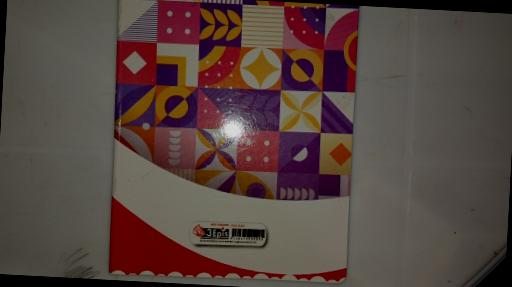notebook: (103, 0, 359, 287)
